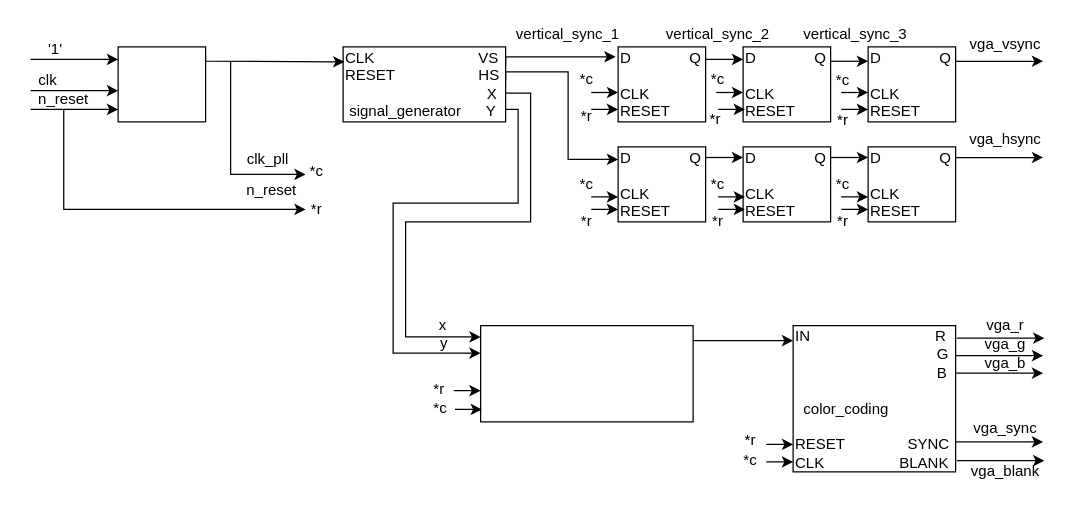
Some shapes in this 1076 by 505 pixel diagram are drawn without their labels. The shapes that lost their labels are listed below. From the top down, each one's centre as x and y in pixels, then its label:
(161,84): T Q CLK RESET
(586,373): X COLOR Y RESET CLK picture_generator
